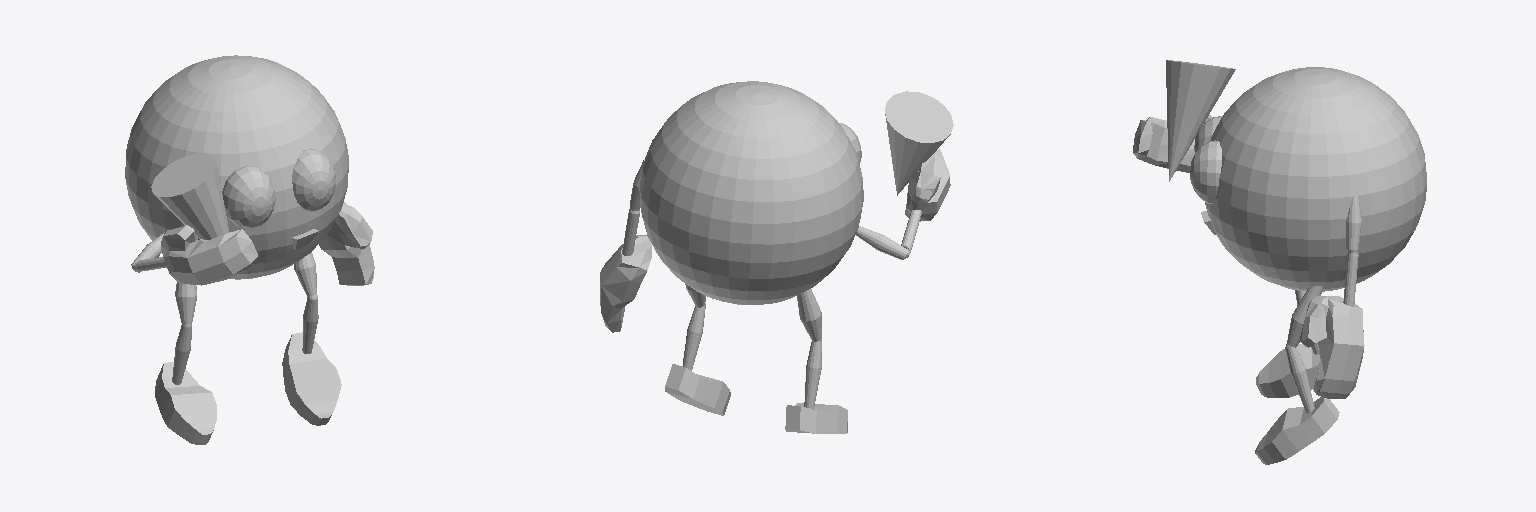
The model's file is stepLeft_000007.obj.
3 renders of one model, left to right at view 1: azimuth 30°, elevation 25°; view 2: azimuth 150°, elevation 25°; view 3: azimuth 270°, elevation 25°, orthographic.
Parts seen in each view (by area): view 1: Rusko_Sphere; view 2: Rusko_Sphere; view 3: Rusko_Sphere.
Part boxes in pixels (x1,y1,x2,y2): Rusko_Sphere: (125, 55, 374, 444); Rusko_Sphere: (600, 81, 953, 433); Rusko_Sphere: (1133, 60, 1426, 464).
Bounding box in the file's own units: 5.75 × 6.97 × 5.25.